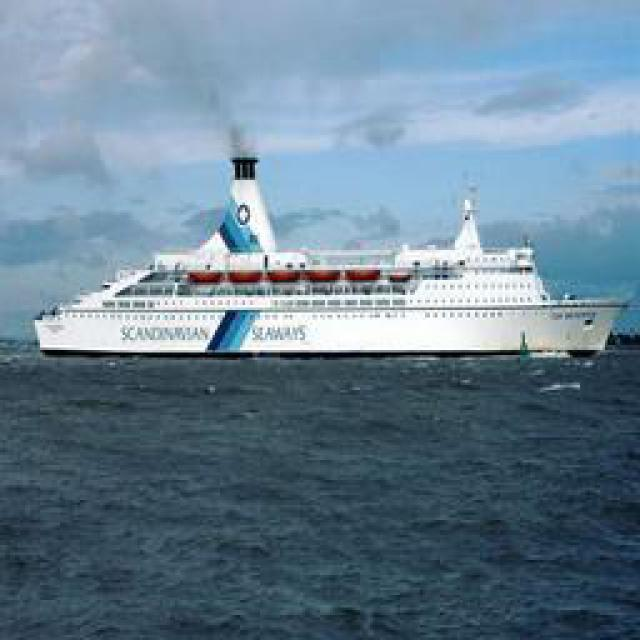Ship: (39, 170, 632, 365)
